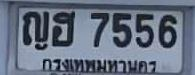5: (112, 12, 131, 47), (135, 13, 153, 47)
6: (158, 14, 176, 47)
7: (90, 12, 108, 46)
A13: (22, 10, 48, 45)
A44: (51, 10, 75, 46)
BKK: (40, 57, 160, 75)
